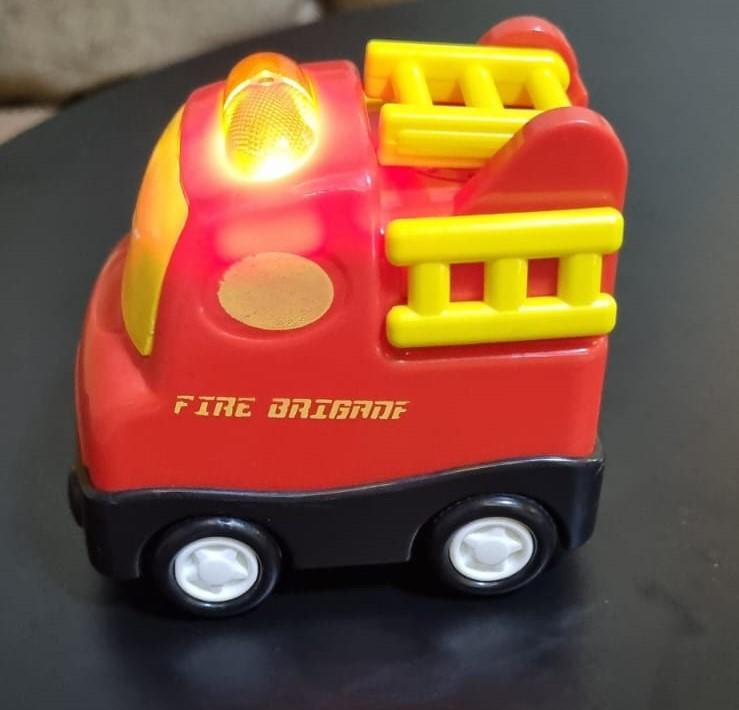firetruck_on: (75, 16, 631, 615)
